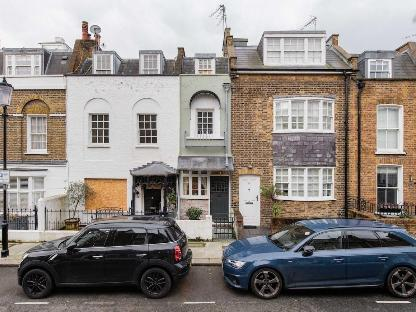car: (17, 209, 195, 307), (223, 216, 416, 302)
door: (207, 171, 233, 227), (141, 183, 164, 215)
